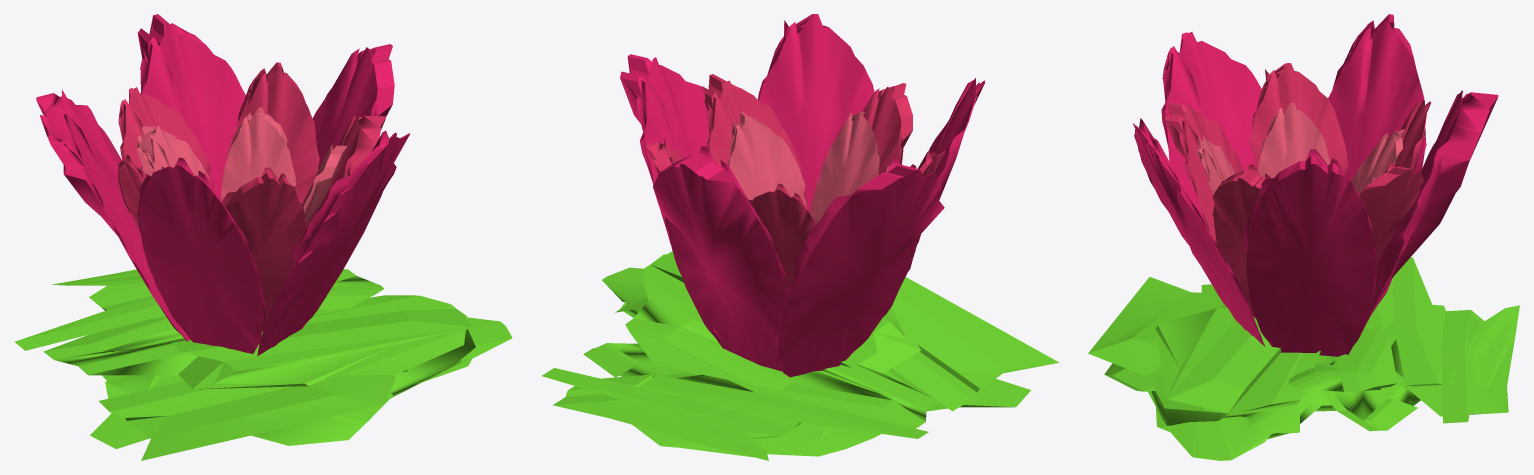
File: flower2.FBX
3 views of the same model, side by side, from view 1: azimuth 30°, elevation 25°; view 2: azimuth 150°, elevation 25°; view 3: azimuth 270°, elevation 25° (orthographic). The views are drawn at different scales.
Visible parts, largest first — view 1: Cylinder005; view 2: Cylinder005; view 3: Cylinder005.
Boxes of the visible parts, box(x1,y1,x2,y2) form: Cylinder005: box(14, 14, 512, 460); Cylinder005: box(542, 14, 1059, 460); Cylinder005: box(1088, 14, 1519, 460).
Bounding box in the file's own units: 23.11 × 15.57 × 21.33.
